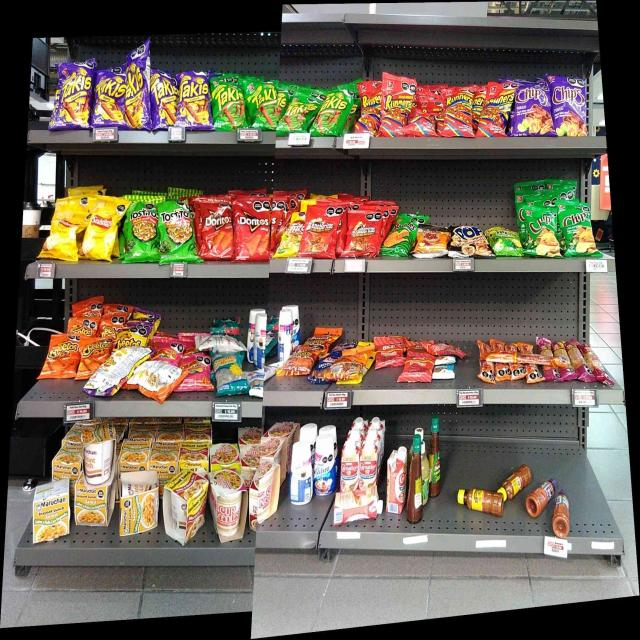bitzAlmendras: (434, 364, 454, 379)
bitzEnchilado90: (376, 336, 402, 366), (407, 351, 431, 381)
bitzEnchilado95: (478, 338, 534, 382)
bitzHabanero: (569, 341, 608, 383), (538, 336, 566, 357), (548, 371, 568, 383)
bokadosCacahuates: (316, 354, 330, 383)
botaneraChilito: (455, 489, 503, 514), (528, 478, 556, 520)
cheetosFlaminHot: (118, 327, 148, 347)
cheetosOriginal: (51, 334, 76, 378), (80, 337, 112, 360)
chipsFuego: (516, 83, 551, 138), (554, 77, 586, 137)
chipsJalapeno: (525, 206, 557, 258), (561, 205, 590, 256)
chipsPapatinas: (489, 226, 517, 257)
churrumais: (188, 354, 211, 392)
doritosNacho: (236, 201, 270, 260), (199, 204, 232, 257)
fritosLimon: (281, 214, 302, 256)
hotNutsOriginal: (419, 225, 447, 258)
leoCacahuates: (249, 370, 266, 397)
leoMix: (294, 345, 312, 375)
maruchanPollo: (119, 474, 157, 531), (82, 423, 116, 485), (34, 487, 69, 538), (75, 487, 106, 527)
maruchanRes: (162, 476, 208, 537), (211, 472, 246, 540)
nestleCarnation: (336, 489, 383, 520), (387, 447, 404, 514), (340, 448, 358, 488), (359, 449, 377, 487)
nestleLechera: (292, 442, 312, 504), (316, 440, 334, 494), (278, 309, 293, 358), (254, 316, 266, 367)
nissinCamaron: (210, 443, 240, 467)
popKarameladas: (452, 224, 485, 257)
productoAtras: (138, 362, 172, 399), (92, 366, 124, 396), (196, 334, 246, 348), (336, 350, 360, 379)
rancheritos: (346, 211, 379, 255), (306, 208, 335, 255)
rufflesQueso: (389, 214, 413, 256)
runners: (383, 73, 412, 125), (442, 89, 470, 135), (484, 84, 509, 134), (359, 81, 380, 132)
sabritasOriginal: (88, 198, 115, 261), (52, 208, 79, 262)
salsaBufalo: (408, 438, 423, 523), (430, 418, 440, 497)
semillasGirasol: (214, 352, 246, 395)
takisFuego: (60, 68, 90, 130), (95, 67, 125, 128), (179, 73, 210, 128), (128, 62, 151, 129), (152, 72, 175, 128)
takisOriginal: (212, 76, 244, 131), (246, 80, 278, 128), (319, 92, 345, 136), (287, 93, 312, 132)
tostitos: (126, 196, 156, 262), (160, 202, 192, 261)
